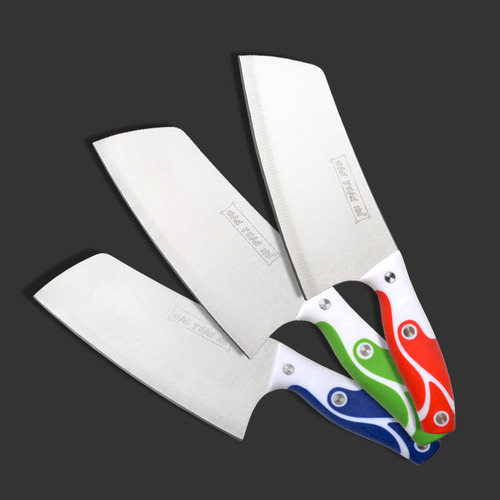knief: (221, 43, 467, 417)
